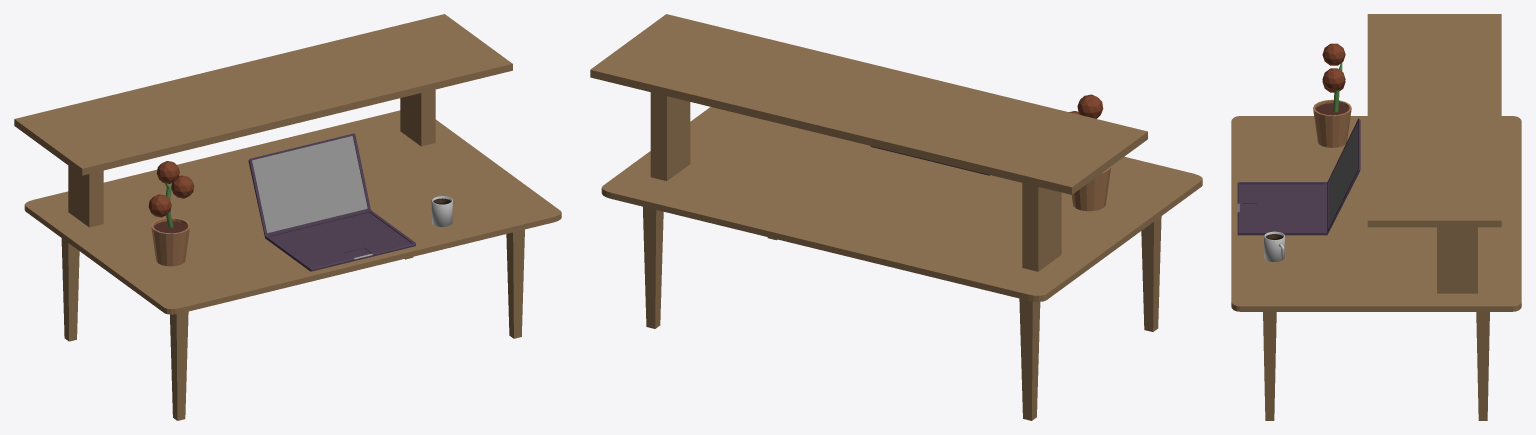
The model's file is laptop.fbx.
3 views of the same model, side by side, from view 1: azimuth 30°, elevation 25°; view 2: azimuth 150°, elevation 25°; view 3: azimuth 270°, elevation 25° (orthographic). The views are drawn at different scales.
Parts seen in each view (by area): view 1: Plane, Cube, Cylinder.001, Cylinder; view 2: Plane, Cylinder.001; view 3: Plane, Cube, Cylinder.001, Cylinder.
Part boxes in pixels (bbox=[...]): Plane: bbox=[14, 14, 561, 420]; Cube: bbox=[248, 133, 415, 271]; Cylinder.001: bbox=[148, 161, 194, 266]; Cylinder: bbox=[431, 196, 452, 226]; Plane: bbox=[590, 14, 1202, 420]; Cylinder.001: bbox=[1069, 94, 1110, 211]; Plane: bbox=[1231, 14, 1521, 420]; Cube: bbox=[1237, 118, 1360, 235]; Cylinder.001: bbox=[1313, 43, 1351, 147]; Cylinder: bbox=[1264, 231, 1284, 261].
Size of the model in its own units: 2377 by 1200 by 1413.
